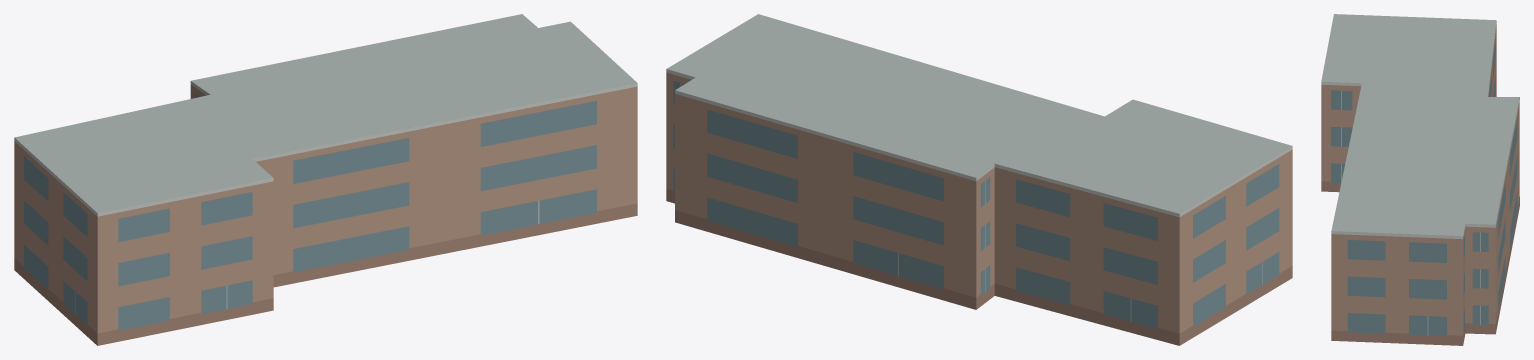
The model's file is survey-upis-32634503.glb.
3 renders of one model, left to right at view 1: azimuth 30°, elevation 25°; view 2: azimuth 150°, elevation 25°; view 3: azimuth 270°, elevation 25°, orthographic. The views are drawn at different scales.
Parts seen in each view (by area): view 1: survey-upis-32634503.tmp; view 2: survey-upis-32634503.tmp; view 3: survey-upis-32634503.tmp.
Part boxes in pixels (<box>): survey-upis-32634503.tmp: <box>14,14,637,345</box>; survey-upis-32634503.tmp: <box>666,14,1292,345</box>; survey-upis-32634503.tmp: <box>1321,14,1519,345</box>.
Bounding box in the file's own units: 39.77 × 9.15 × 15.03.
